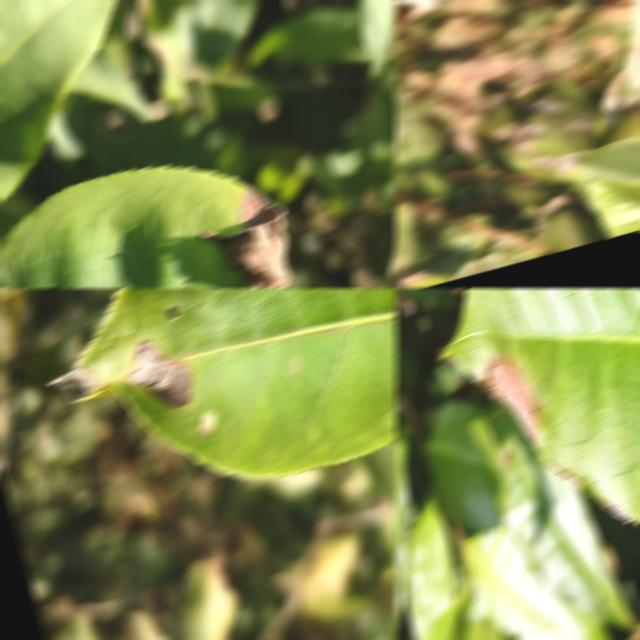Leaf: (62, 288, 398, 476), (445, 288, 640, 522), (0, 166, 291, 288), (492, 398, 636, 628), (0, 0, 118, 201), (465, 527, 611, 640), (427, 399, 501, 529), (405, 499, 455, 640), (555, 137, 640, 206), (182, 559, 239, 640), (394, 437, 410, 633), (587, 179, 640, 236), (362, 440, 398, 504), (53, 611, 98, 640)
